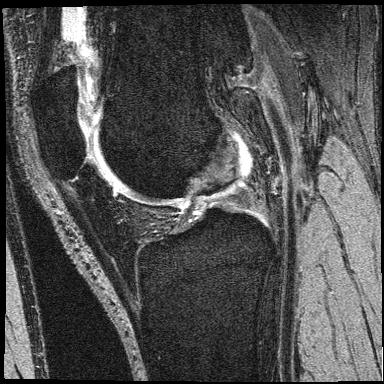SagKneeJointArea: (29, 63, 277, 321)
